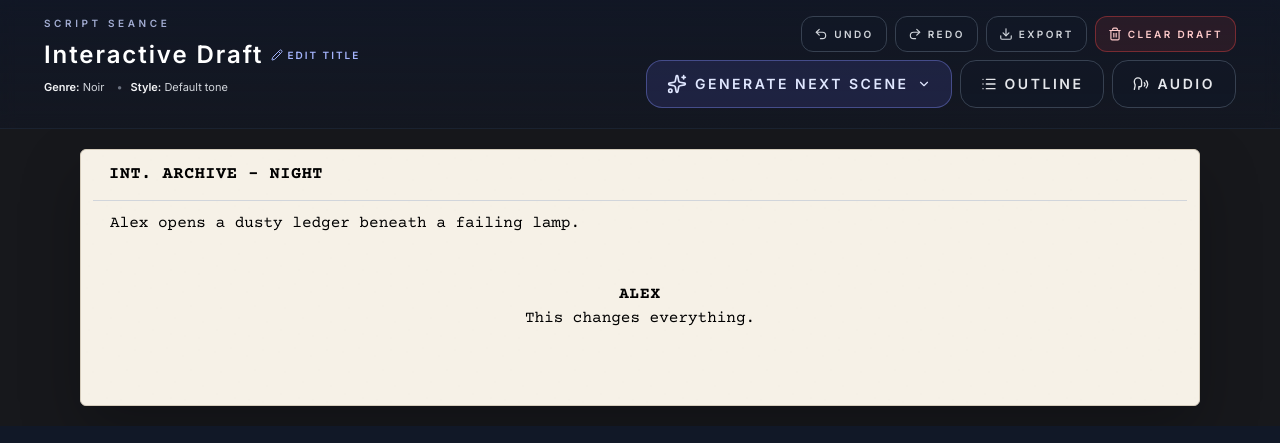
it: ScriptPane block interactions › does not let legacy locked block data disable rewrite
The image size is (1280, 443).
Click the button with id "block-block-2": coordinates (640, 306) [525, 284, 755, 326]
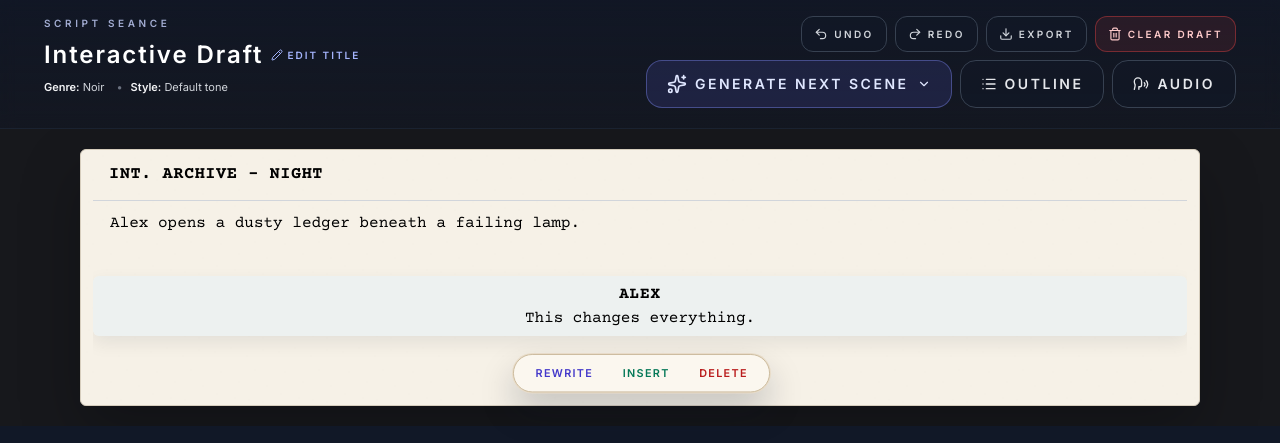
Expected: the button with aria-label "Rewrite selected block" is enabled, [524, 360, 605, 384]
